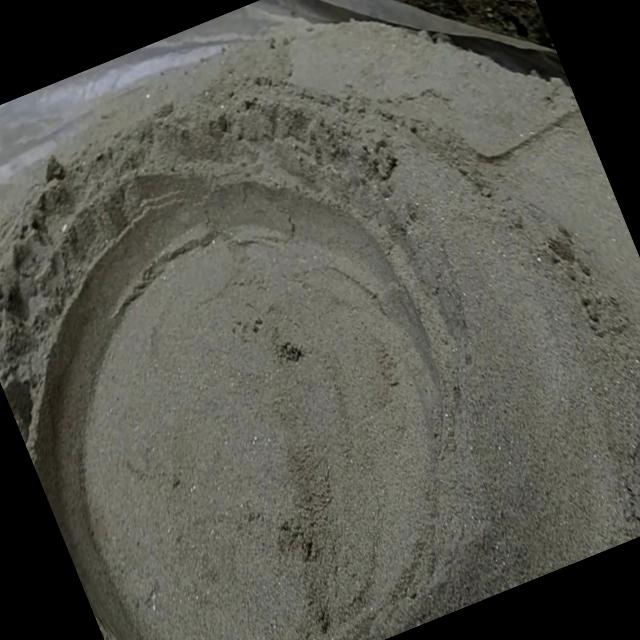C40: (32, 177, 438, 640)
